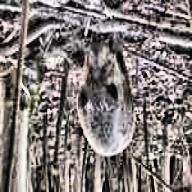boar: (76, 34, 135, 158)
